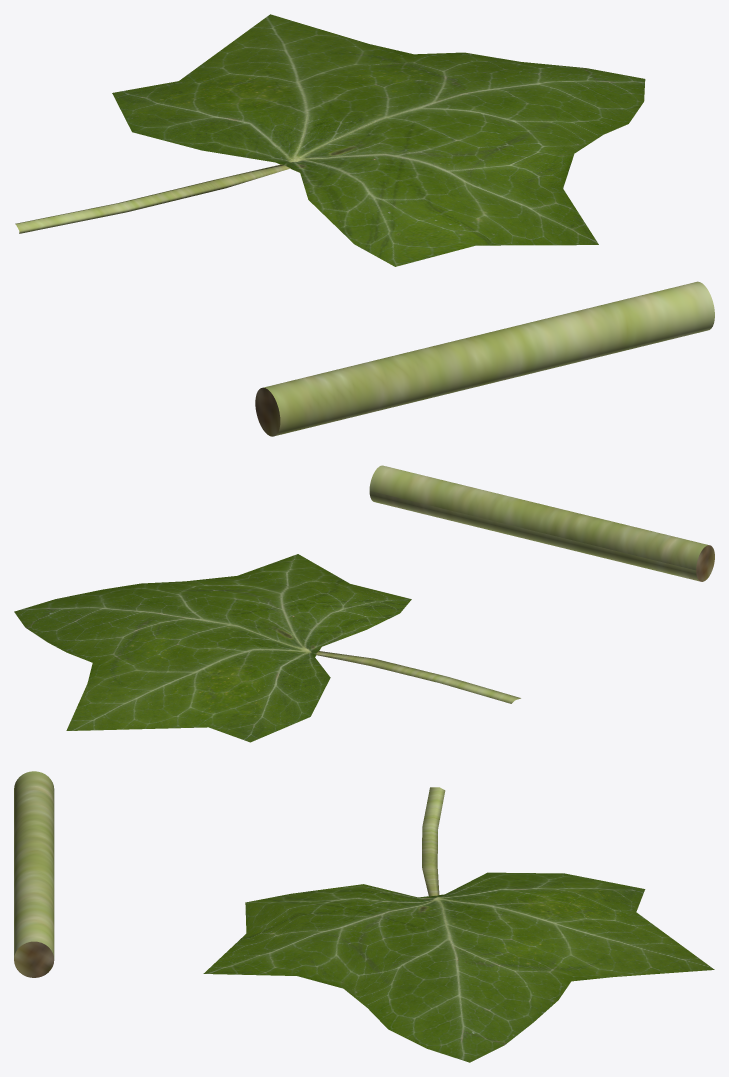
File: ivy.gltf
3 renders of one model, top to bottom at view 1: azimuth 30°, elevation 25°; view 2: azimuth 150°, elevation 25°; view 3: azimuth 270°, elevation 25°, orthographic. The views are drawn at different scales.
Parts seen in each view (by area): view 1: Leaf, Stem; view 2: Leaf, Stem; view 3: Leaf, Stem.
Part boxes in pixels (left/top/right/bottom): Leaf: left=15, top=14, right=645, bottom=266; Stem: left=255, top=281, right=714, bottom=436; Leaf: left=14, top=554, right=520, bottom=742; Stem: left=369, top=465, right=714, bottom=581; Leaf: left=203, top=787, right=714, bottom=1062; Stem: left=14, top=771, right=54, bottom=977.
Size of the model in its own units: 0.2995 by 0.0204 by 0.348.
1 material, 1 textured.
